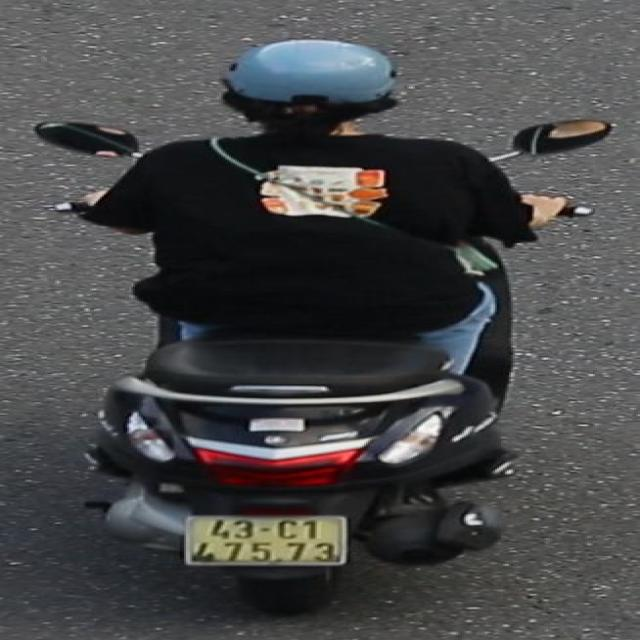LP: (173, 506, 355, 574)
helmet: (209, 32, 415, 162)
